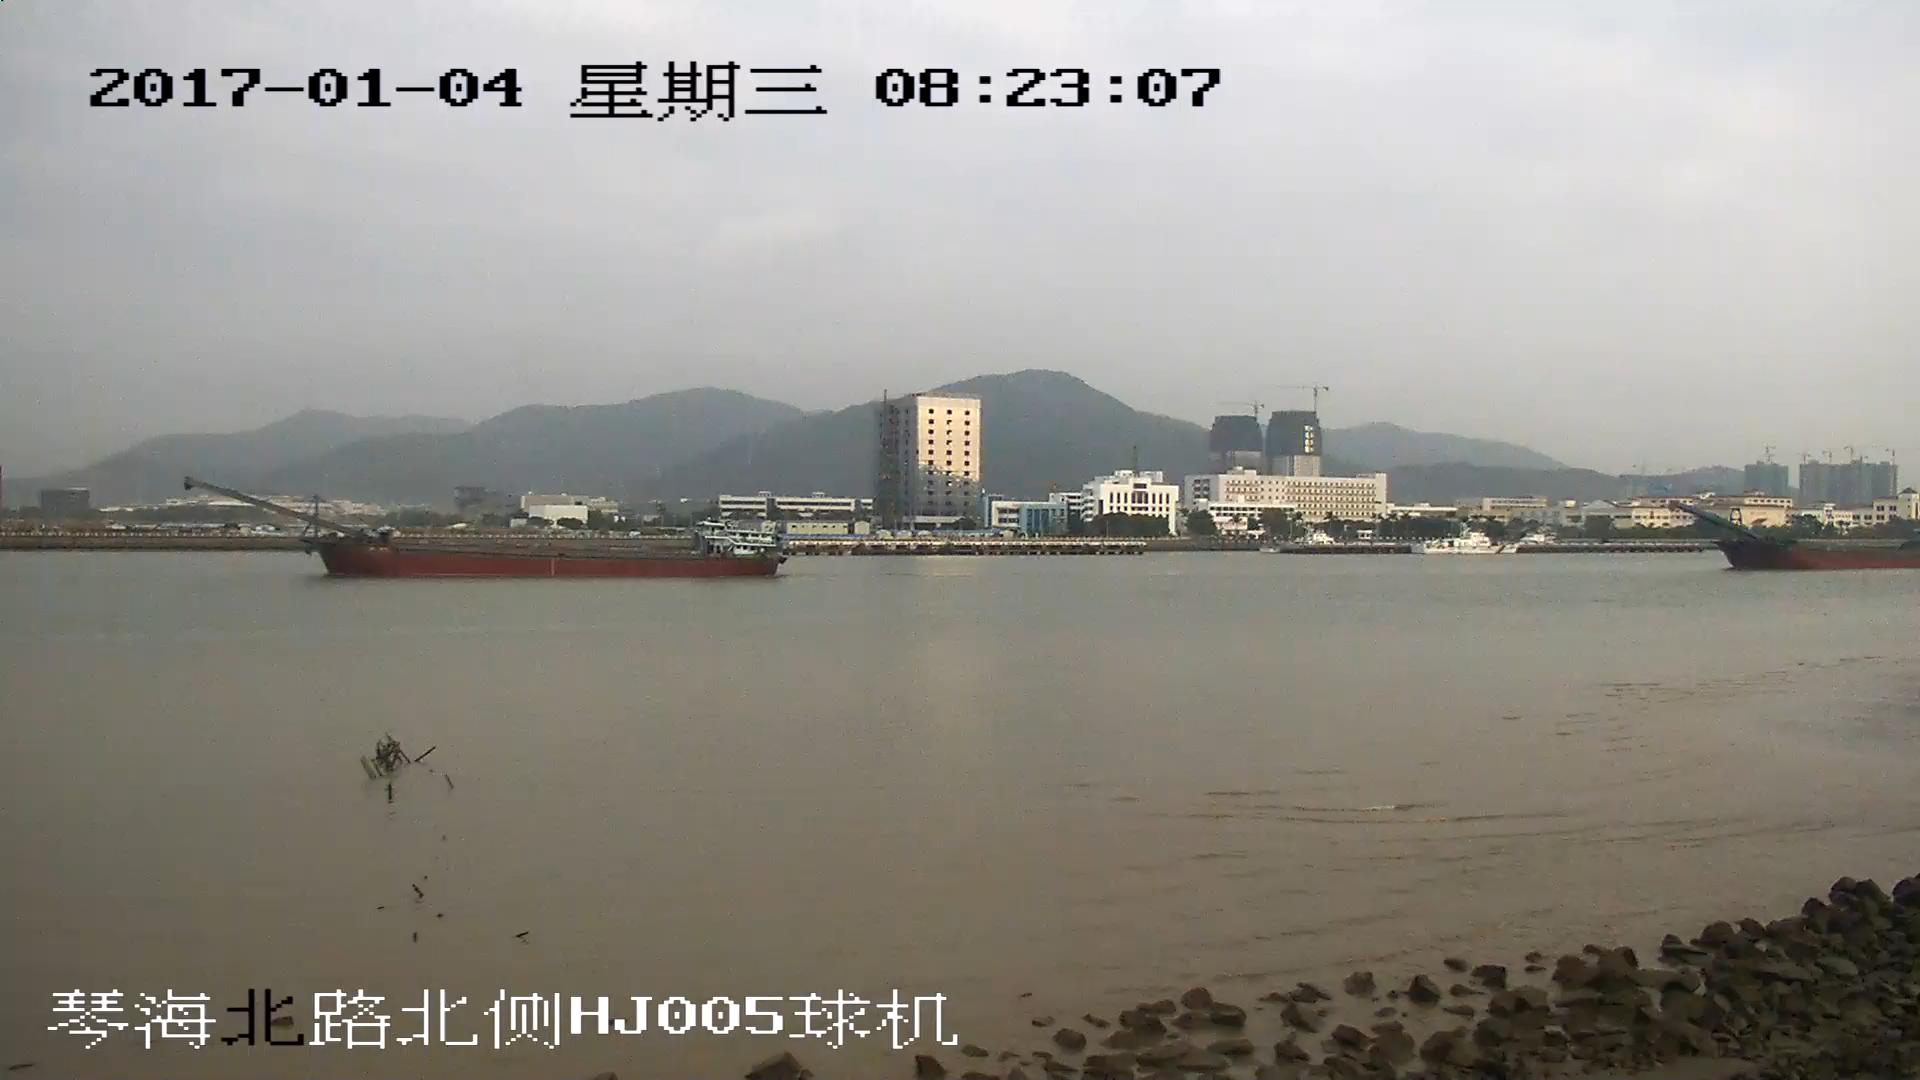bulk cargo carrier: (189, 477, 777, 573), (1676, 503, 1920, 570)
